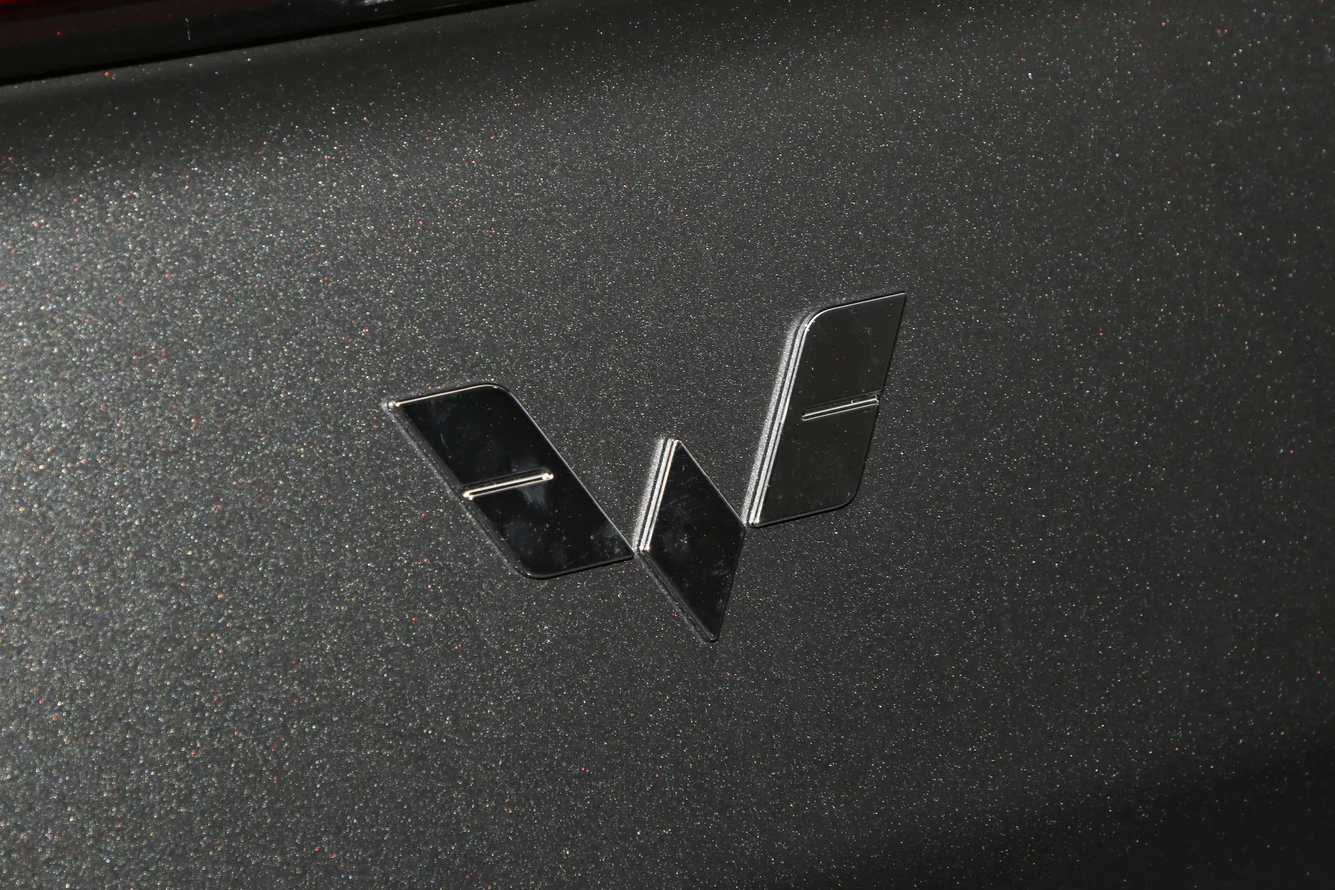SGMW: (389, 293, 905, 640)
